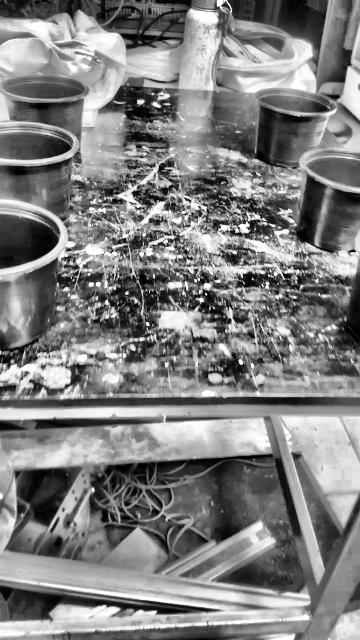pot: (1, 202, 63, 349), (0, 122, 79, 223), (297, 149, 360, 253), (0, 76, 89, 147), (255, 89, 337, 166)
